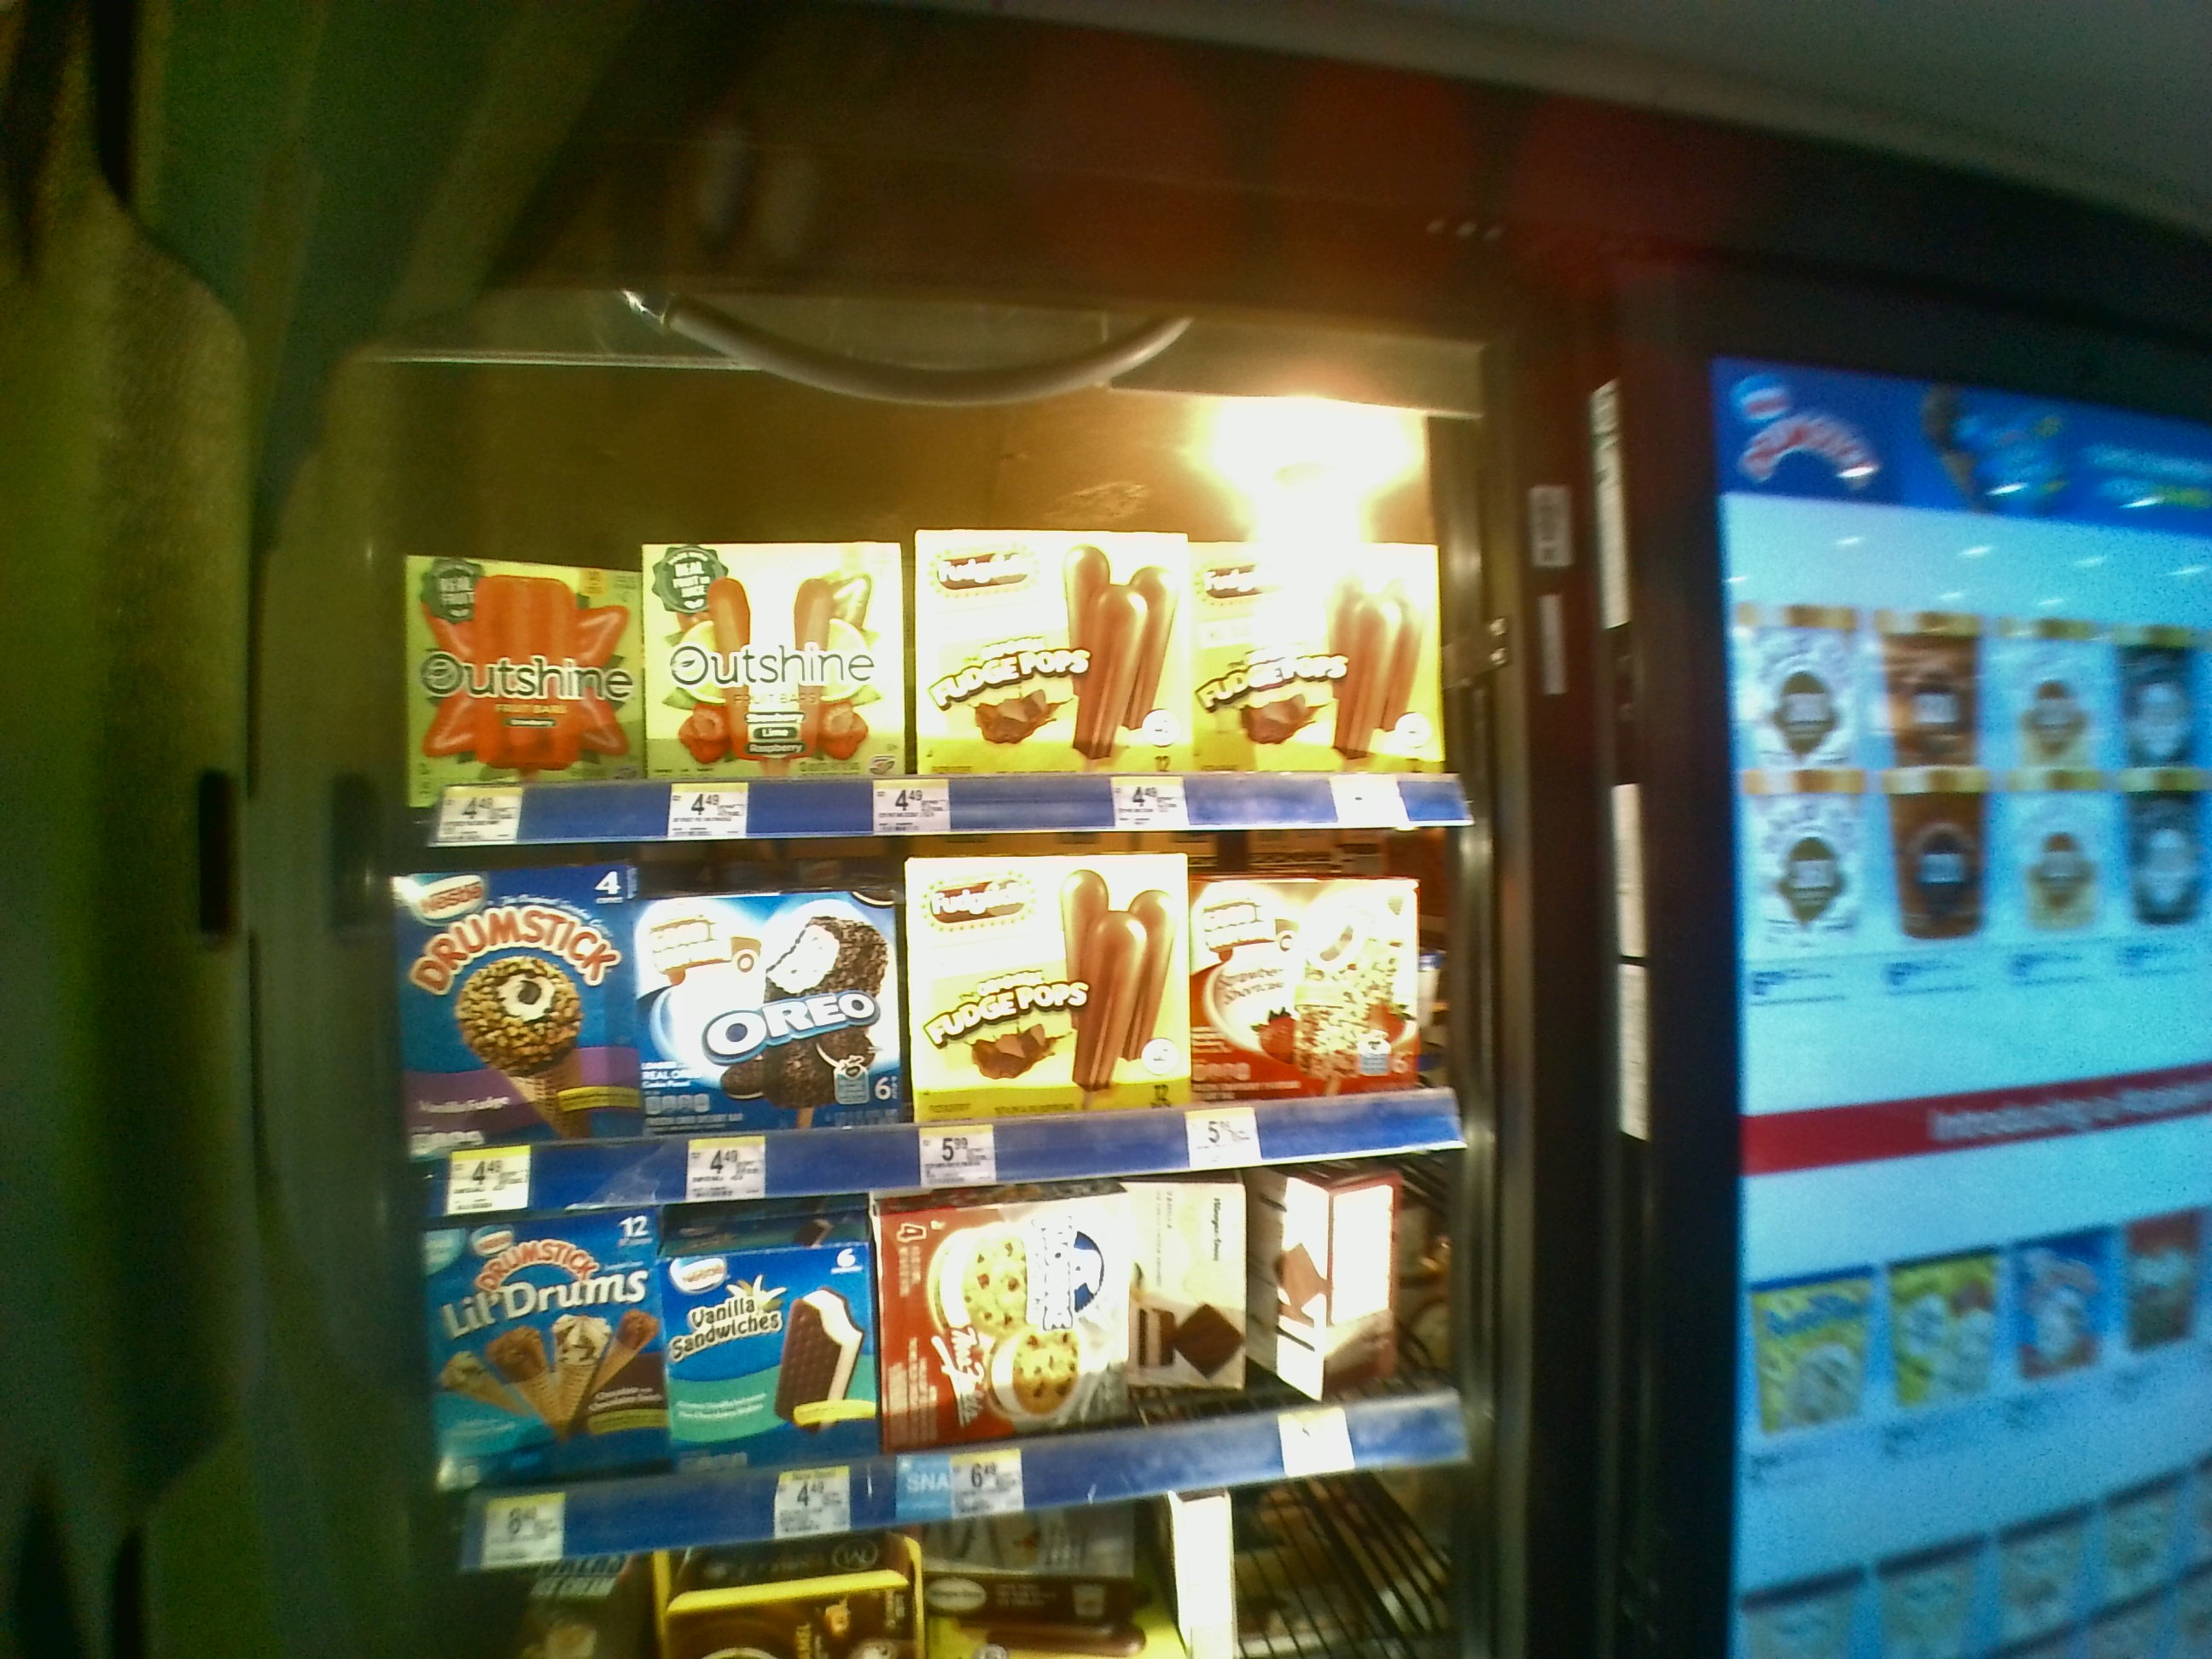shelf: (387, 457, 1456, 831), (401, 847, 1458, 1218), (411, 1220, 1458, 1582)
